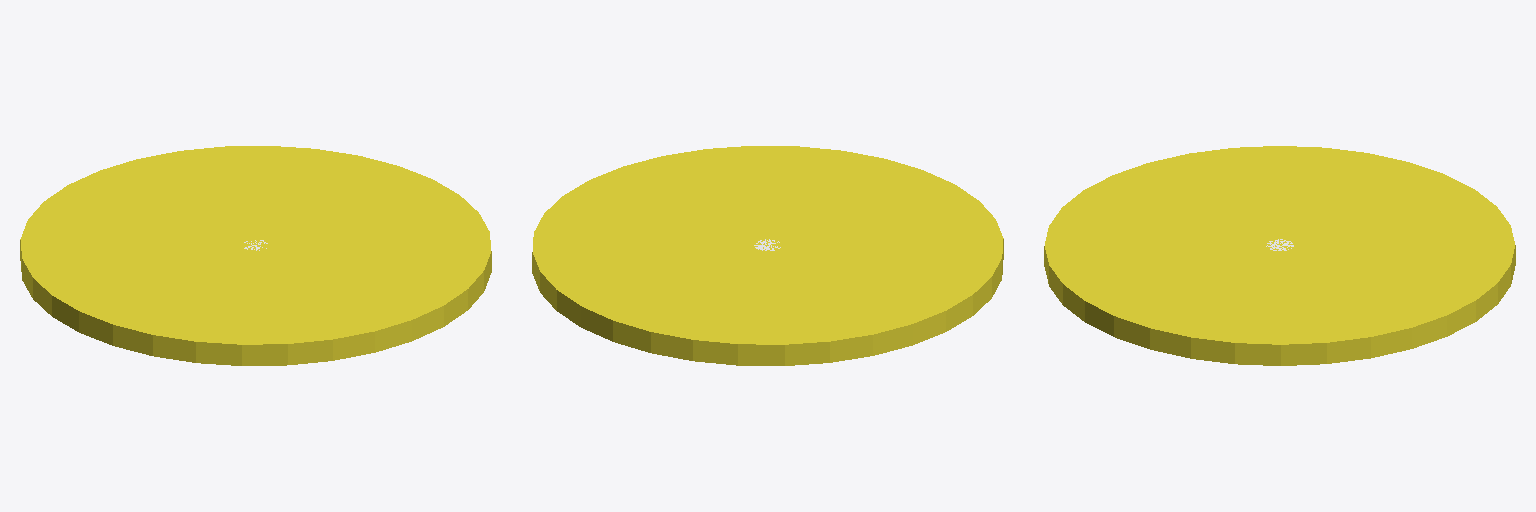
URDF robot description (mobile_manipulator):
<?xml version="1.0"?>

<robot name="mobile_manipulator">
<!--################################# BASE #####################################-->
  <link name="base_link">
    <inertial>
      <origin
        xyz="0.0030946 4.78250032638821E-11 0.053305"
        rpy="0 0 0" />
      <mass
        value="47.873" />
      <inertia
        ixx="0.774276574699151"
        ixy="-1.03781944357671E-10"
        ixz="0.00763014265820928"
        iyy="1.64933255189991"
        iyz="1.09578155845563E-12"
        izz="2.1239326987473" />
    </inertial>
    <visual>
      <origin
        xyz="0 0 0"
        rpy="1.5707963267949 0 3.14" />
      <geometry>
        <mesh filename="package://multi_robot/models/manipulator/four_wheels_with_arm/meshes/robot_base.stl" />
      </geometry>
      <material
        name="">
        <color
          rgba="0.79216 0.81961 0.93333 1" />
      </material>
    </visual>
    <collision>
      <origin
        xyz="0 0 0"
        rpy="1.5707963267949 0 3.14" />
      <geometry>
        <mesh filename="package://multi_robot/models/manipulator/four_wheels_with_arm/meshes/robot_base.stl" />
      </geometry>
    </collision>
  </link>

<link name="front_left_wheel">
    <inertial>
      <origin
        xyz="-4.1867E-18 0.0068085 -1.65658661799998E-18"
        rpy="0 0 0" />
      <mass
        value="2.6578" />
      <inertia
        ixx="0.00856502765719703"
        ixy="1.5074118157338E-19"
        ixz="-4.78150098725052E-19"
        iyy="0.013670640432096"
        iyz="-2.68136447099727E-19"
        izz="0.00856502765719703" />
    </inertial>
    <visual>
      <origin
        xyz="0 0 0"
        rpy="1.5707963267949 0 0" />
      <geometry>
        <mesh filename="package://multi_robot/models/manipulator/four_wheels_with_arm/meshes/wheel.stl" />
      </geometry>
      <material
        name="">
        <color
          rgba="0.79216 0.81961 0.93333 1" />
      </material>
    </visual>
    <collision>
      <origin
        xyz="0 0 0"
        rpy="1.5707963267949 0 0" />
      <geometry>
        <mesh filename="package://multi_robot/models/manipulator/four_wheels_with_arm/meshes/wheel.stl" />
      </geometry>
    </collision>
  </link>

<link name="front_right_wheel">
    <inertial>
      <origin
        xyz="-4.1867E-18 0.0068085 -1.65658661799998E-18"
        rpy="0 0 0" />
      <mass
        value="2.6578" />
      <inertia
        ixx="0.00856502765719703"
        ixy="1.5074118157338E-19"
        ixz="-4.78150098725052E-19"
        iyy="0.013670640432096"
        iyz="-2.68136447099727E-19"
        izz="0.00856502765719703" />
    </inertial>
    <visual>
      <origin
        xyz="0 0 0"
        rpy="1.5707963267949 0 0" />
      <geometry>
        <mesh filename="package://multi_robot/models/manipulator/four_wheels_with_arm/meshes/wheel.stl" />
      </geometry>
      <material
        name="">
        <color
          rgba="0.79216 0.81961 0.93333 1" />
      </material>
    </visual>
    <collision>
      <origin
        xyz="0 0 0"
        rpy="1.5707963267949 0 0" />
      <geometry>
        <mesh filename="package://multi_robot/models/manipulator/four_wheels_with_arm/meshes/wheel.stl" />
      </geometry>
    </collision>
  </link>

<link name="rear_left_wheel">
    <inertial>
      <origin
        xyz="-4.1867E-18 0.0068085 -1.65658661799998E-18"
        rpy="0 0 0" />
      <mass
        value="2.6578" />
      <inertia
        ixx="0.00856502765719703"
        ixy="1.5074118157338E-19"
        ixz="-4.78150098725052E-19"
        iyy="0.013670640432096"
        iyz="-2.68136447099727E-19"
        izz="0.00856502765719703" />
    </inertial>
    <visual>
      <origin
        xyz="0 0 0"
        rpy="1.5707963267949 0 0" />
      <geometry>
        <mesh filename="package://multi_robot/models/manipulator/four_wheels_with_arm/meshes/wheel.stl" />
      </geometry>
      <material
        name="">
        <color
          rgba="0.79216 0.81961 0.93333 1" />
      </material>
    </visual>
    <collision>
      <origin
        xyz="0 0 0"
        rpy="1.5707963267949 0 0" />
      <geometry>
        <mesh filename="package://multi_robot/models/manipulator/four_wheels_with_arm/meshes/wheel.stl" />
      </geometry>
    </collision>
  </link>

<link name="rear_right_wheel">
    <inertial>
      <origin
        xyz="-4.1867E-18 0.0068085 -1.65658661799998E-18"
        rpy="0 0 0" />
      <mass
        value="2.6578" />
      <inertia
        ixx="0.00856502765719703"
        ixy="1.5074118157338E-19"
        ixz="-4.78150098725052E-19"
        iyy="0.013670640432096"
        iyz="-2.68136447099727E-19"
        izz="0.00856502765719703" />
    </inertial>
    <visual>
      <origin
        xyz="0 0 0"
        rpy="1.5707963267949 0 0" />
      <geometry>
        <mesh filename="package://multi_robot/models/manipulator/four_wheels_with_arm/meshes/wheel.stl" />
      </geometry>
      <material
        name="">
        <color
          rgba="0.79216 0.81961 0.93333 1" />
      </material>
    </visual>
    <collision>
      <origin
        xyz="0 0 0"
        rpy="1.5707963267949 0 0" />
      <geometry>
        <mesh filename="package://multi_robot/models/manipulator/four_wheels_with_arm/meshes/wheel.stl" />
      </geometry>
    </collision>
  </link>


<joint name="front_left_wheel_joint" type="continuous">
    <axis xyz="0 1 0"/>
    <parent link ="base_link"/>
    <child link ="front_left_wheel"/>
    <origin rpy ="0 0 0" xyz= "0.220 0.250 0"/>
  </joint>


<joint name="front_right_wheel_joint" type="continuous">
    <axis xyz="0 1 0"/>
    <parent link ="base_link"/>
    <child link ="front_right_wheel"/>
    <origin rpy ="0 0 0" xyz= "0.220 -0.250 0"/>
  </joint>

<joint name="rear_left_wheel_joint" type="continuous">
    <axis xyz="0 1 0"/>
    <parent link ="base_link"/>
    <child link ="rear_left_wheel"/>
    <origin rpy ="0 0 0" xyz= "-0.220 0.250 0"/>
  </joint>

<joint name="rear_right_wheel_joint" type="continuous">
    <axis xyz="0 1 0"/>
    <parent link ="base_link"/>
    <child link ="rear_right_wheel"/>
    <origin rpy ="0 0 0" xyz= "-0.220 -0.250 0"/>
</joint>
<!--############################## ARM ########################################-->

 <link name="arm_base">
    <inertial>
      <origin
        xyz="7.7128E-09 -0.063005 -3.01969999961422E-08"
        rpy="0 0 0" />
      <mass
        value="1.6004" />
      <inertia
        ixx="0.00552196561445819"
        ixy="7.9550614501301E-10"
        ixz="-1.34378458924839E-09"
        iyy="0.00352397447953875"
        iyz="-1.10071809773382E-08"
        izz="0.00553739792746489" />
    </inertial>
    <visual>
      <origin
        xyz="0 0 0"
        rpy="0 0 0" />
      <geometry>
        <mesh filename="package://multi_robot/models/manipulator/four_wheels_with_arm/meshes/arm_base.stl" />
      </geometry>
      <material
        name="">
        <color
          rgba="0.79216 0.81961 0.93333 1" />
      </material>
    </visual>
    <collision>
      <origin
        xyz="0 0 0"
        rpy="0 0 0" />
      <geometry>
        <mesh filename="package://multi_robot/models/manipulator/four_wheels_with_arm/meshes/arm_base.stl" />
      </geometry>
    </collision>
</link>

<link
    name="bicep">
    <inertial>
      <origin
        xyz="0.12821 3.5589E-06 0.052492"
        rpy="0 0 0" />
      <mass
        value="1.1198" />
      <inertia
        ixx="0.0012474"
        ixy="-5.4004E-07"
        ixz="-0.0013148"
        iyy="0.0072923"
        iyz="-1.8586E-07"
        izz="0.0068178" />
    </inertial>
    <visual>
      <origin
        xyz="0 0 0"
        rpy="0 -1.5708 0" />
      <geometry>
        <mesh filename="package://multi_robot/models/manipulator/four_wheels_with_arm/meshes/bicep.stl" />
      </geometry>
      <material
        name="">
        <color
          rgba="0.79216 0.81961 0.93333 1" />
      </material>
    </visual>
    <collision>
      <origin
        xyz="0 0 0"
        rpy="0 -1.5708 0" />
      <geometry>
        <mesh filename="package://multi_robot/models/manipulator/four_wheels_with_arm/meshes/bicep.stl" />
      </geometry>
    </collision>
  </link>


  <link
    name="bottom_wrist">
    <inertial>
      <origin
        xyz="-9.1053E-08 -0.069257 -1.86629999995759E-07"
        rpy="0 0 0" />
      <mass
        value="0.27721" />
      <inertia
        ixx="0.00104290750143942"
        ixy="4.37155302268076E-09"
        ixz="-2.45049603914627E-09"
        iyy="0.000380518373895034"
        iyz="-7.56009835172156E-09"
        izz="0.00106006525067445" />
    </inertial>
    <visual>
      <origin
        xyz="0 0 0.13522"
        rpy="3.14 0 1.5708" />
      <geometry>
        <mesh filename="package://multi_robot/models/manipulator/four_wheels_with_arm/meshes/wrist.stl" />
      </geometry>
      <material
        name="">
        <color
          rgba="0.79216 0.81961 0.93333 1" />
      </material>
    </visual>
    <collision>
      <origin
        xyz="0 0 0.13522"
        rpy="3.14 0 1.5708" />
      <geometry>
        <mesh filename="package://multi_robot/models/manipulator/four_wheels_with_arm/meshes/wrist.stl" />
      </geometry>
    </collision>
  </link>

 <link
    name="elbow">
    <inertial>
      <origin
        xyz="-0.11109 1.1476E-08 0.046469"
        rpy="0 0 0" />
      <mass
        value="0.84845" />
      <inertia
        ixx="0.00079656"
        ixy="-7.8011E-10"
        ixz="0.00053616"
        iyy="0.003576"
        iyz="4.6326E-10"
        izz="0.0033698" />
    </inertial>
    <visual>
      <origin
        xyz="0.0 0.05163 0.20994"
        rpy="0 -1.5708 0" />
      <geometry>
        <mesh filename="package://multi_robot/models/manipulator/four_wheels_with_arm/meshes/elbow.stl" />
      </geometry>
      <material
        name="">
        <color
          rgba="0.79216 0.81961 0.93333 1" />
      </material>
    </visual>
    <collision>
      <origin
        xyz="0.0 0.05163 0.20994"
        rpy="0 -1.5708 0" />
      <geometry>
        <mesh filename="package://multi_robot/models/manipulator/four_wheels_with_arm/meshes/elbow.stl" />
      </geometry>
    </collision>
  </link>

<link
    name="top_wrist">
    <inertial>
      <origin
        xyz="-9.1053E-08 -0.069257 -1.86629999995759E-07"
        rpy="0 0 0" />
      <mass
        value="0.27721" />
      <inertia
        ixx="0.00104290750143942"
        ixy="4.37155302268076E-09"
        ixz="-2.45049603914627E-09"
        iyy="0.000380518373895034"
        iyz="-7.56009835172156E-09"
        izz="0.00106006525067445" />
    </inertial>
    <visual>
      <origin
        xyz="0 0 0.13522"
        rpy="3.14 0 1.5708" />
      <geometry>
        <mesh filename="package://multi_robot/models/manipulator/four_wheels_with_arm/meshes/wrist.stl" />
      </geometry>
      <material
        name="">
        <color
          rgba="0.79216 0.81961 0.93333 1" />
      </material>
    </visual>
    <collision>
      <origin
        xyz="0 0 0.13522"
        rpy="3.14 0 1.5708" />
      <geometry>
        <mesh filename="package://multi_robot/models/manipulator/four_wheels_with_arm/meshes/wrist.stl" />
      </geometry>
    </collision>
  </link>
  
  
<!--############################## GRIPPER ########################################-->

    <link name="epick">
    <inertial>
      <mass value="0.745"/>
      <origin rpy="0 0 0" xyz="0 0.0 0.055"/>
      <inertia ixx="0.003084" ixy="0.0" ixz="0.0" iyy="0.002999" iyz="0.0" izz="0.000546"/>
    </inertial>
    <visual>
      <origin rpy="0 0 0" xyz="0 0 0.22"/>
      <geometry>
        <mesh filename="package://multi_robot/models/manipulator/four_wheels_with_arm/meshes/robotiq_epick/visual/robotiq_epick.dae" scale="0.001 0.001 0.001"/>
      </geometry>
      <material name="">
        <color rgba="1 1 1 1"/>
      </material>
    </visual>
    <visual>
      <origin rpy="0 0 0" xyz="0 0 0.22"/>
      <geometry>
        <cylinder length="0.03" radius="0.006"/>
      </geometry>
      <material name="">
        <color rgba="1 1 1 1"/>
      </material>
    </visual>
    <collision>
      <!-- -0.095 + 0.102/2 = -0.044-->
      <origin rpy="0 0 0" xyz="0 0 0.17"/>
      <geometry>
        <cylinder length="0.13" radius="0.044"/>
      </geometry>
    </collision>
    <!--       <collision>
      <origin xyz="0 0 ${0.008+0.095}" rpy="0 0 0"/>
      <geometry>
        <cylinder radius="0.006" length="0.016"/>
      </geometry>
      <material name="">
        <color rgba="1 1 1 1"/>
      </material>
    </collision>  -->
  </link>
  <link name="epick_end_effector">
    <gravity>0</gravity>
    <visual>
      <origin rpy="0 0 0.005" xyz="0 0 0.1"/>
      <geometry>
        <cylinder length="0.01" radius="0.1"/>
      </geometry>
      <!-- <material name="transparent">
        <color rgba="0 0 0 0"/>
      </material> -->
    </visual>
        <collision>
      <origin rpy="0 0 0.005" xyz="0 0 0.1"/>
      <geometry>
        <cylinder length="0.01" radius="0.1"/>
      </geometry>
    </collision>
    <inertial>
      <origin rpy="0 0 0" xyz="0 0 0"/>
      <mass value="0.0001"/>
      <inertia ixx="1e-08" ixy="0" ixz="0" iyy="1e-08" iyz="0" izz="1e-08"/>
    </inertial>
  </link>


<joint name="arm_base_joint" type="continuous">
  <axis xyz="0 0 1"/>
  <parent link="base_link"/>
  <child link="arm_base"/>
  <origin rpy="0 0 0" xyz="0.20 0.0 0.145"/>
</joint>

<joint name="shoulder_joint" type="continuous">
  <axis xyz="0 1 0"/>
  <parent link="arm_base"/>
  <child link="bicep"/>
  <origin rpy="0 0 1.5708" xyz="-0.05166 0.0 0.20271"/>
</joint>

<joint name="bottom_wrist_joint" type="continuous">
  <axis xyz="0 1 0"/>
  <parent link="bicep"/>
  <child link="bottom_wrist"/>
  <origin rpy="0 0 0" xyz="0.0 -0.05194 0.269"/>
</joint>

<joint name="elbow_joint" type="continuous">
  <axis xyz="0 0 1"/>
  <parent link="bottom_wrist"/>
  <child link="elbow"/>
  <origin rpy="0 0 0" xyz="0.0 0 0.13522"/>
</joint>

<joint name="top_wrist_joint" type="continuous">
  <axis xyz="0 1 0"/>
  <parent link="elbow"/>
  <child link="top_wrist"/>
  <origin rpy="0 0 0" xyz="0.0 0 0.20994"/>
</joint>

   <joint name="epick_end_effector_joint" type="revolute">
    <axis xyz="1 0 0"/>
    <parent link="epick"/>
    <child link="epick_end_effector"/>
    <origin rpy="0 0 0" xyz="0 0 0.13"/>
    <limit effort="50" lower="0" upper="0" velocity="50"/>
    <dynamics damping="0.0" friction="10"/>
  </joint>
    <!-- fix epick to robot -->
  <joint name="robotiq_epick_joint" type="fixed">
    <origin rpy="0 0 -1.5707963267948966" xyz="0 0 0.004"/>
    <parent link="top_wrist"/>
    <child link="epick"/>
  </joint>


<!--########################## BASE TRANSMISSIONS ############################################-->
<transmission name="front_left_wheel_trans" type="SimpleTransmission">
  <type>transmission_interface/SimpleTransmission</type>
  <actuator name="front_left_wheel_motor">
   <hardwareInterface>hardware_interface/VelocityJointInterface</hardwareInterface>
   <mechanicalReduction>1</mechanicalReduction>
  </actuator>
  <joint name="front_left_wheel_joint">
   <hardwareInterface>hardware_interface/VelocityJointInterface</hardwareInterface>
  </joint>
</transmission>

<transmission name="front_right_wheel_trans" type="SimpleTransmission">
  <type>transmission_interface/SimpleTransmission</type>
  <actuator name="front_right_wheel_motor">
   <hardwareInterface>hardware_interface/VelocityJointInterface</hardwareInterface>
   <mechanicalReduction>1</mechanicalReduction>
  </actuator>
  <joint name="front_right_wheel_joint">
   <hardwareInterface>hardware_interface/VelocityJointInterface</hardwareInterface>
  </joint>
</transmission>

<transmission name="rear_left_wheel_trans" type="SimpleTransmission">
  <type>transmission_interface/SimpleTransmission</type>
  <actuator name="rear_left_wheel_motor">
   <hardwareInterface>hardware_interface/VelocityJointInterface</hardwareInterface>
   <mechanicalReduction>1</mechanicalReduction>
  </actuator>
  <joint name="rear_left_wheel_joint">
   <hardwareInterface>hardware_interface/VelocityJointInterface</hardwareInterface>
  </joint>
</transmission>

<transmission name="rear_right_wheel_trans" type="SimpleTransmission">
  <type>transmission_interface/SimpleTransmission</type>
  <actuator name="rear_right_wheel_motor">
   <hardwareInterface>hardware_interface/VelocityJointInterface</hardwareInterface>
   <mechanicalReduction>1</mechanicalReduction>
  </actuator>
  <joint name="rear_right_wheel_joint">
   <hardwareInterface>hardware_interface/VelocityJointInterface</hardwareInterface>
  </joint>
</transmission>
<!--################################ ARM TRANSIMISSIONS ######################################-->
<transmission name="arm_base_trans" type="SimpleTransmission">
  <type>transmission_interface/SimpleTransmission</type>
  <actuator name="arm_base_motor">
   <hardwareInterface>hardware_interface/PositionJointInterface</hardwareInterface>
   <mechanicalReduction>1</mechanicalReduction>
  </actuator>
  <joint name="arm_base_joint">
   <hardwareInterface>hardware_interface/PositionJointInterface</hardwareInterface>
  </joint>
</transmission>

<transmission name="shoulder_trans" type="SimpleTransmission">
  <type>transmission_interface/SimpleTransmission</type>
  <actuator name="shoulder_motor">
   <hardwareInterface>hardware_interface/PositionJointInterface</hardwareInterface>
   <mechanicalReduction>1</mechanicalReduction>
  </actuator>
  <joint name="shoulder_joint">
   <hardwareInterface>hardware_interface/PositionJointInterface</hardwareInterface>
  </joint>
</transmission>

<transmission name="bottom_wrist_trans" type="SimpleTransmission">
  <type>transmission_interface/SimpleTransmission</type>
  <actuator name="bottom_wrist_motor">
   <hardwareInterface>hardware_interface/PositionJointInterface</hardwareInterface>
   <mechanicalReduction>1</mechanicalReduction>
  </actuator>
  <joint name="bottom_wrist_joint">
   <hardwareInterface>hardware_interface/PositionJointInterface</hardwareInterface>
  </joint>
</transmission>

<transmission name="elbow_trans" type="SimpleTransmission">
  <type>transmission_interface/SimpleTransmission</type>
  <actuator name="elbow_motor">
   <hardwareInterface>hardware_interface/PositionJointInterface</hardwareInterface>
   <mechanicalReduction>1</mechanicalReduction>
  </actuator>
  <joint name="elbow_joint">
   <hardwareInterface>hardware_interface/PositionJointInterface</hardwareInterface>
  </joint>
</transmission>

<transmission name="top_wrist_trans" type="SimpleTransmission">
  <type>transmission_interface/SimpleTransmission</type>
  <actuator name="top_wrist_motor">
   <hardwareInterface>hardware_interface/PositionJointInterface</hardwareInterface>
   <mechanicalReduction>1</mechanicalReduction>
  </actuator>
  <joint name="top_wrist_joint">
   <hardwareInterface>hardware_interface/PositionJointInterface</hardwareInterface>
  </joint>
</transmission>

<!--######################################################################-->
<gazebo>
    <plugin name="gazebo_ros_control" filename="libgazebo_ros_control.so">
      <controlPeriod>0.001</controlPeriod>
      <legacyModeNS>false</legacyModeNS>
    </plugin>
  </gazebo>
<!--######################################################################-->
  <gazebo>
    <plugin name="joint_state_publisher" filename="libgazebo_ros_joint_state_publisher.so">
      <jointName>arm_base_joint, shoulder_joint, bottom_wrist_joint, elbow_joint, bottom_wrist_joint</jointName>
    </plugin>
  </gazebo>
<!--######################################################################-->

<!--######################################################################-->
<gazebo>
      <plugin name="diff_drive_controller" filename="libgazebo_ros_diff_drive.so">
        <legacyMode>false</legacyMode>
        <alwaysOn>true</alwaysOn>
        <updateRate>1000.0</updateRate>
        <leftJoint>front_left_wheel_joint, rear_left_wheel_joint</leftJoint>
        <rightJoint>front_right_wheel_joint, rear_right_wheel_joint</rightJoint>
        <wheelSeparation>0.5</wheelSeparation>
        <wheelDiameter>0.2</wheelDiameter>
        <wheelTorque>10</wheelTorque>
        <publishTf>1</publishTf>
        <odometryFrame>map</odometryFrame>
        <commandTopic>cmd_vel</commandTopic>
        <odometryTopic>odom</odometryTopic>
        <robotBaseFrame>base_link</robotBaseFrame>
        <wheelAcceleration>2.8</wheelAcceleration>
        <publishWheelJointState>true</publishWheelJointState>
        <publishWheelTF>false</publishWheelTF>
        <odometrySource>world</odometrySource>
        <rosDebugLevel>Debug</rosDebugLevel>
      </plugin>
</gazebo>
<!--######################################################################-->

  <!-- http://docs.ros.org/melodic/api/gazebo_plugins/html/group__GazeboRosVacuumGripper.html -->
  <gazebo>
      <plugin name="gazebo_ros_vacuum_gripper" filename="libgazebo_ros_vacuum_gripper.so">
      <bodyName>epick_end_effector</bodyName>
      <topicName>grasping</topicName>
    </plugin>
  </gazebo>

<!--######################################################################-->
<gazebo reference="front_left_wheel">
 <mu1 value="1.0"/>
 <mu2 value="1.0"/>
 <kp value="10000000.0" />
 <kd value="1.0" />
 <fdir1 value="1 0 0"/>
</gazebo>

<gazebo reference="front_right_wheel">
 <mu1 value="1.0"/>
 <mu2 value="1.0"/>
 <kp value="10000000.0" />
 <kd value="1.0" />
 <fdir1 value="1 0 0"/>
</gazebo>

<gazebo reference="rear_left_wheel">
 <mu1 value="1.0"/>
 <mu2 value="1.0"/>
 <kp value="10000000.0" />
 <kd value="1.0" />
 <fdir1 value="1 0 0"/>
</gazebo>

<gazebo reference="rear_left_wheel">
 <mu1 value="1.0"/>
 <mu2 value="1.0"/>
 <kp value="10000000.0" />
 <kd value="1.0" />
 <fdir1 value="1 0 0"/>
</gazebo>
<!--######################################################################-->

</robot>

--- Facts derived from the render (not from the file) ---
3 views of the same robot in one strip: view 1: azimuth 30°, elevation 25°; view 2: azimuth 150°, elevation 25°; view 3: azimuth 270°, elevation 25° (orthographic).
Robot: mobile_manipulator — 12 links, 11 joints (1 revolute, 9 continuous, 1 fixed); root link base_link; default pose: every joint at zero.
Links seen in each view (by area): view 1: epick_end_effector; view 2: epick_end_effector; view 3: epick_end_effector.
Link boxes in pixels (bbox=[...]): epick_end_effector: bbox=[20, 146, 491, 365]; epick_end_effector: bbox=[532, 146, 1003, 365]; epick_end_effector: bbox=[1044, 146, 1515, 365].
Bounding box of the posed robot: 0.2 × 0.2 × 0.03 m (x, y, z).
0 mesh visuals loaded from 7 distinct referenced files (none loaded); not drawn: 11 (reference not matched to a file when rendering).